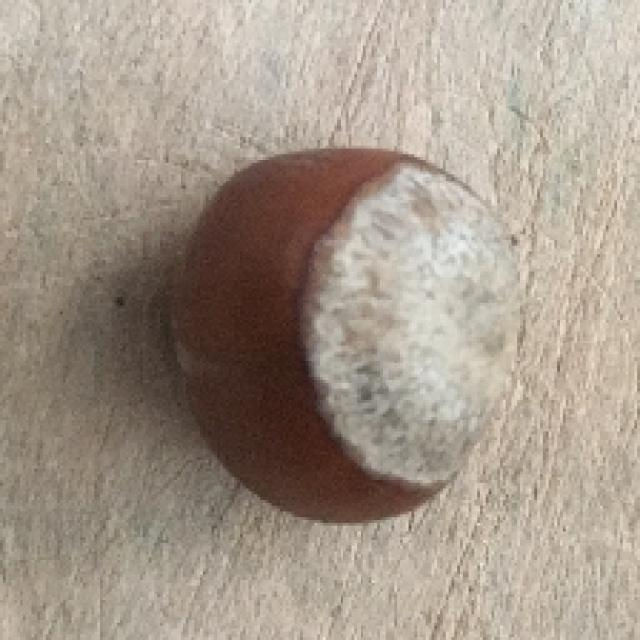qualityHazelnut: (167, 139, 523, 538)
